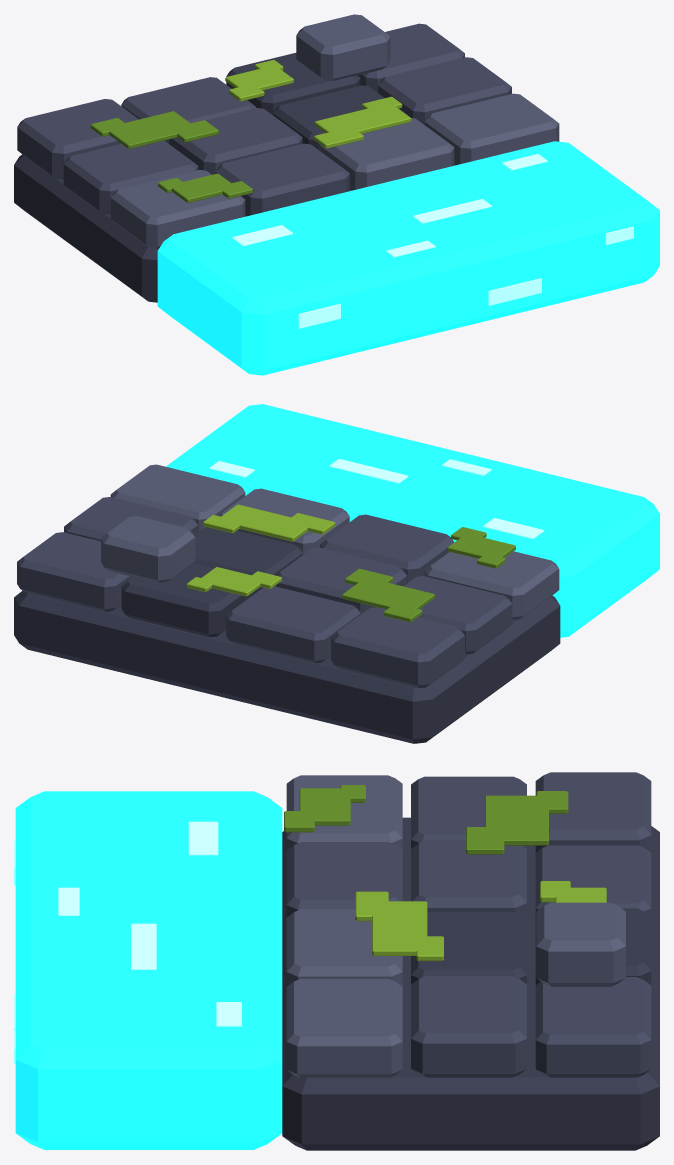
Rendered from Bogheart_FloorWaterTile.glb.
3 renders of one model, top to bottom at view 1: azimuth 30°, elevation 25°; view 2: azimuth 150°, elevation 25°; view 3: azimuth 270°, elevation 25°, orthographic. The views are drawn at different scales.
Parts seen in each view (by area): view 1: FloorWaterTile_water_body_Glow, FloorWaterTile_floor_base, FloorWaterTile_floor_tile_2_3, FloorWaterTile_floor_tile_2_1, FloorWaterTile_floor_tile_2_2, FloorWaterTile_floor_tile_2_0, FloorWaterTile_floor_tile_1_0, FloorWaterTile_floor_tile_1_3, FloorWaterTile_floor_tile_0_0, FloorWaterTile_floor_bump, FloorWaterTile_floor_tile_1_1, FloorWaterTile_floor_tile_0_1 (+13 smaller); view 2: FloorWaterTile_water_body_Glow, FloorWaterTile_floor_base, FloorWaterTile_floor_tile_0_0, FloorWaterTile_floor_tile_0_1, FloorWaterTile_floor_tile_0_3, FloorWaterTile_floor_tile_0_2, FloorWaterTile_floor_bump, FloorWaterTile_floor_tile_2_0, FloorWaterTile_floor_tile_2_1, FloorWaterTile_floor_tile_2_3, FloorWaterTile_floor_tile_1_0, FloorWaterTile_floor_tile_1_1 (+11 smaller); view 3: FloorWaterTile_water_body_Glow, FloorWaterTile_floor_base, FloorWaterTile_floor_tile_1_3, FloorWaterTile_floor_tile_2_3, FloorWaterTile_floor_tile_0_3, FloorWaterTile_floor_tile_1_1, FloorWaterTile_floor_tile_0_0, FloorWaterTile_floor_bump, FloorWaterTile_floor_tile_2_1, FloorWaterTile_floor_tile_2_2, FloorWaterTile_floor_tile_1_2, FloorWaterTile_floor_tile_0_1 (+17 smaller).
Part boxes in pixels (x1=…): FloorWaterTile_water_body_Glow: x1=157, y1=141, x2=659, y2=375; FloorWaterTile_floor_base: x1=14, y1=154, x2=454, y2=302; FloorWaterTile_floor_tile_2_3: x1=424, y1=93, x2=559, y2=165; FloorWaterTile_floor_tile_2_1: x1=215, y1=143, x2=349, y2=216; FloorWaterTile_floor_tile_2_2: x1=320, y1=118, x2=454, y2=190; FloorWaterTile_floor_tile_2_0: x1=110, y1=170, x2=245, y2=248; FloorWaterTile_floor_tile_1_0: x1=63, y1=140, x2=198, y2=214; FloorWaterTile_floor_tile_1_3: x1=378, y1=57, x2=511, y2=124; FloorWaterTile_floor_tile_0_0: x1=17, y1=99, x2=138, y2=179; FloorWaterTile_floor_bump: x1=296, y1=14, x2=390, y2=80; FloorWaterTile_floor_tile_1_1: x1=168, y1=108, x2=302, y2=174; FloorWaterTile_floor_tile_0_1: x1=121, y1=77, x2=256, y2=143; FloorWaterTile_water_body_Glow: x1=166, y1=404, x2=659, y2=637; FloorWaterTile_floor_base: x1=14, y1=590, x2=560, y2=743; FloorWaterTile_floor_tile_0_0: x1=331, y1=607, x2=464, y2=688; FloorWaterTile_floor_tile_0_1: x1=226, y1=586, x2=360, y2=663; FloorWaterTile_floor_tile_0_3: x1=17, y1=532, x2=133, y2=611; FloorWaterTile_floor_tile_0_2: x1=121, y1=563, x2=255, y2=637; FloorWaterTile_floor_bump: x1=101, y1=516, x2=195, y2=582; FloorWaterTile_floor_tile_2_0: x1=424, y1=551, x2=559, y2=619; FloorWaterTile_floor_tile_2_1: x1=320, y1=514, x2=454, y2=583; FloorWaterTile_floor_tile_2_3: x1=110, y1=464, x2=245, y2=532; FloorWaterTile_floor_tile_1_0: x1=404, y1=576, x2=512, y2=654; FloorWaterTile_floor_tile_1_1: x1=275, y1=547, x2=407, y2=614; FloorWaterTile_water_body_Glow: x1=15, y1=791, x2=282, y2=1149; FloorWaterTile_floor_base: x1=282, y1=817, x2=659, y2=1150; FloorWaterTile_floor_tile_1_3: x1=411, y1=976, x2=526, y2=1077; FloorWaterTile_floor_tile_2_3: x1=286, y1=978, x2=402, y2=1077; FloorWaterTile_floor_tile_0_3: x1=535, y1=977, x2=651, y2=1077; FloorWaterTile_floor_tile_1_1: x1=411, y1=840, x2=526, y2=919; FloorWaterTile_floor_tile_0_0: x1=535, y1=772, x2=651, y2=852; FloorWaterTile_floor_bump: x1=536, y1=902, x2=625, y2=986; FloorWaterTile_floor_tile_2_1: x1=286, y1=842, x2=402, y2=916; FloorWaterTile_floor_tile_2_2: x1=286, y1=909, x2=402, y2=986; FloorWaterTile_floor_tile_1_2: x1=411, y1=912, x2=526, y2=984; FloorWaterTile_floor_tile_0_1: x1=535, y1=845, x2=651, y2=916.
Size of the model in its own units: 3 by 0.84 by 3.03.
